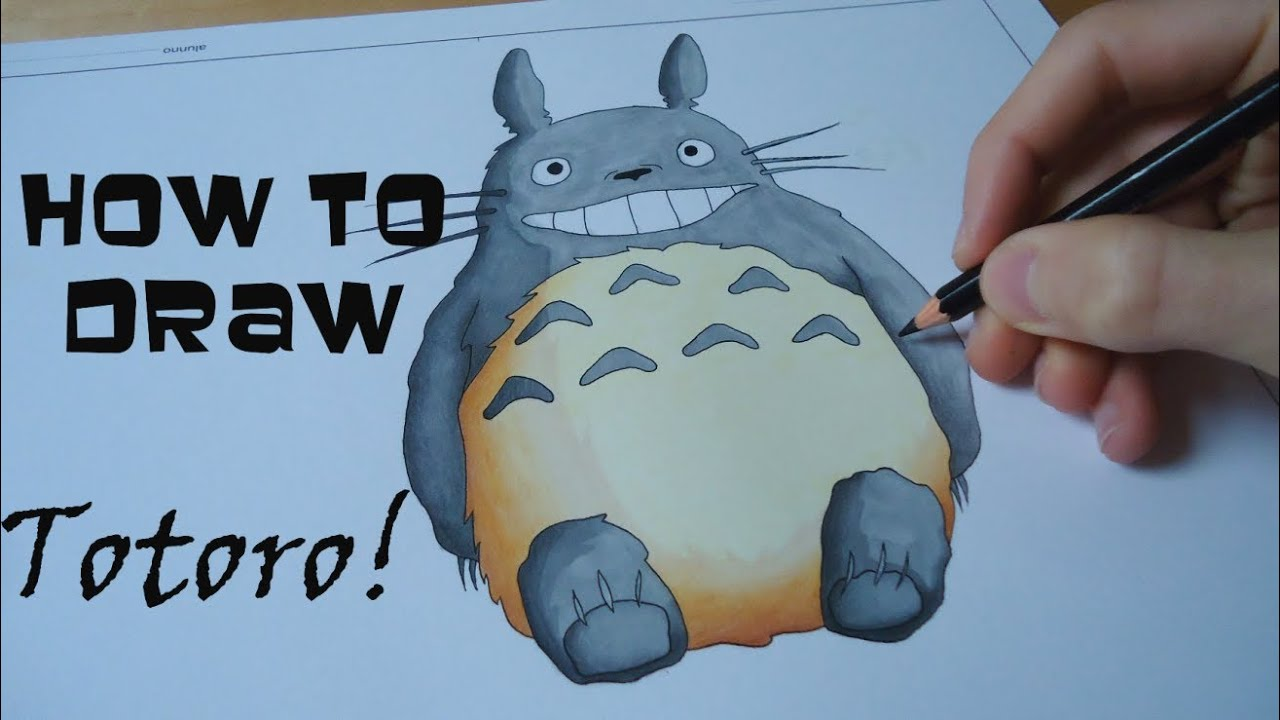Totoro: (400, 31, 991, 691)
